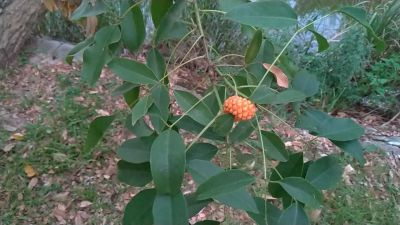eggs: (223, 93, 254, 123)
